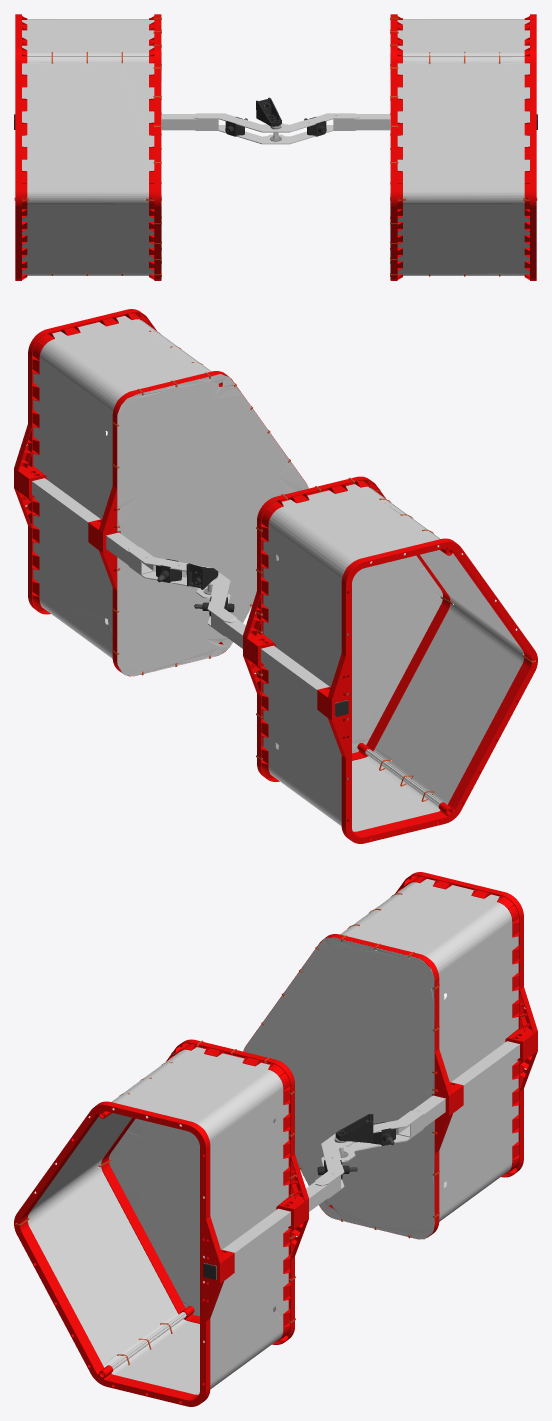
File: red-hive.obj
3 renders of one model, top to bottom at view 1: azimuth 30°, elevation 25°; view 2: azimuth 150°, elevation 25°; view 3: azimuth 270°, elevation 25°, orthographic. The views are drawn at different scales.
Parts seen in each view (by area): view 1: red-hive-E6E6E6, red-hive-FF0000, red-hive-303030, red-hive-DD5228; view 2: red-hive-E6E6E6, red-hive-FF0000, red-hive-303030, red-hive-DD5228; view 3: red-hive-E6E6E6, red-hive-FF0000, red-hive-303030, red-hive-DD5228.
Part boxes in pixels (x1,y1,x2,y2): red-hive-E6E6E6: [22, 15, 529, 279]; red-hive-FF0000: [15, 14, 536, 280]; red-hive-303030: [14, 97, 537, 136]; red-hive-DD5228: [14, 18, 537, 276]; red-hive-E6E6E6: [32, 316, 524, 831]; red-hive-FF0000: [14, 309, 537, 843]; red-hive-303030: [156, 559, 348, 716]; red-hive-DD5228: [112, 330, 536, 801]; red-hive-E6E6E6: [27, 879, 519, 1394]; red-hive-FF0000: [14, 872, 537, 1406]; red-hive-303030: [203, 1114, 395, 1279]; red-hive-DD5228: [15, 893, 439, 1365].
Bounding box in the file's own units: 45.19 × 21.06 × 35.37.
